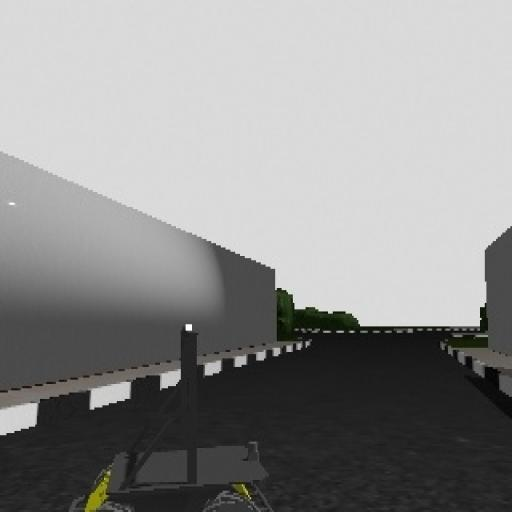huskya200: (61, 301, 291, 512)
